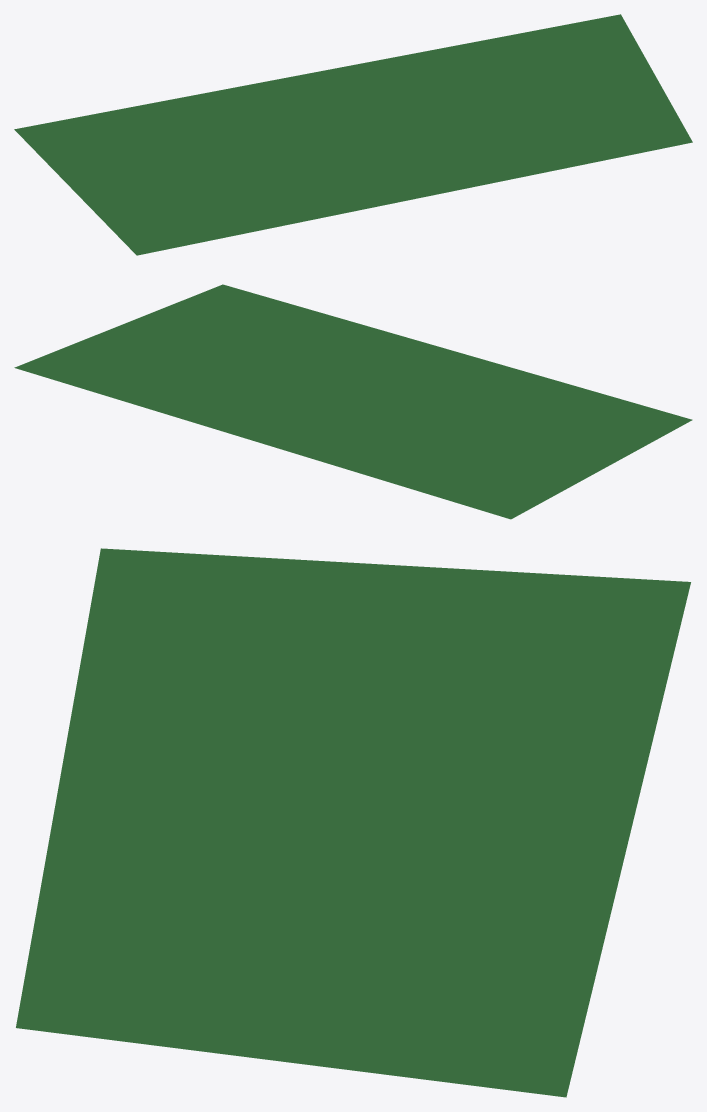
The model's file is littlemagothypark.glb.
3 views of the same model, one above another, from view 1: azimuth 30°, elevation 25°; view 2: azimuth 150°, elevation 25°; view 3: azimuth 270°, elevation 25° (orthographic). The views are drawn at different scales.
Visible parts, largest first — view 1: Plane.002; view 2: Plane.002; view 3: Plane.002.
Part boxes in pixels (x1,y1,x2,y2): Plane.002: (14,14,692,255); Plane.002: (14,284,692,519); Plane.002: (16,548,690,1097).
Bounding box in the file's own units: 0.1538 × 0 × 0.0799.
